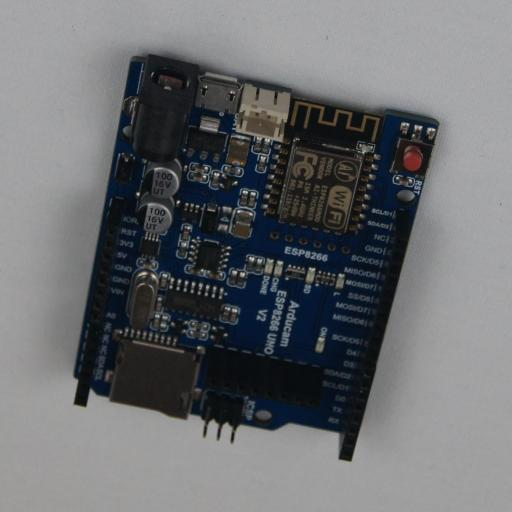Arduino Uno Camera Shield: (74, 53, 439, 461)
